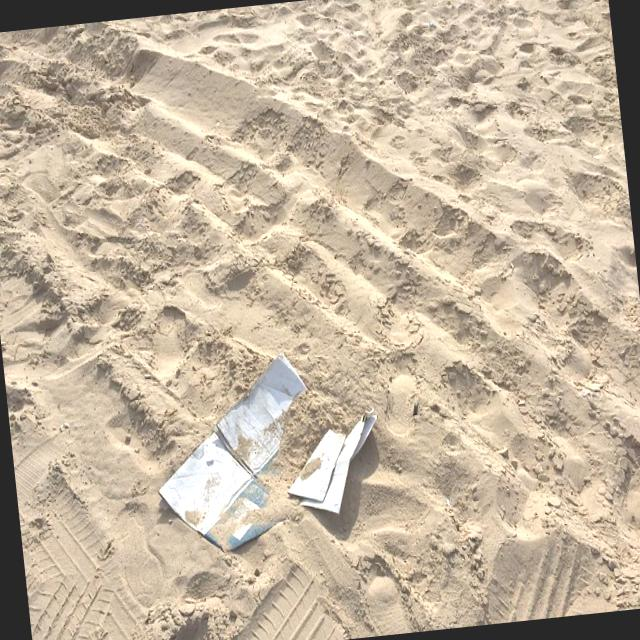Recycle: (144, 347, 390, 564)
